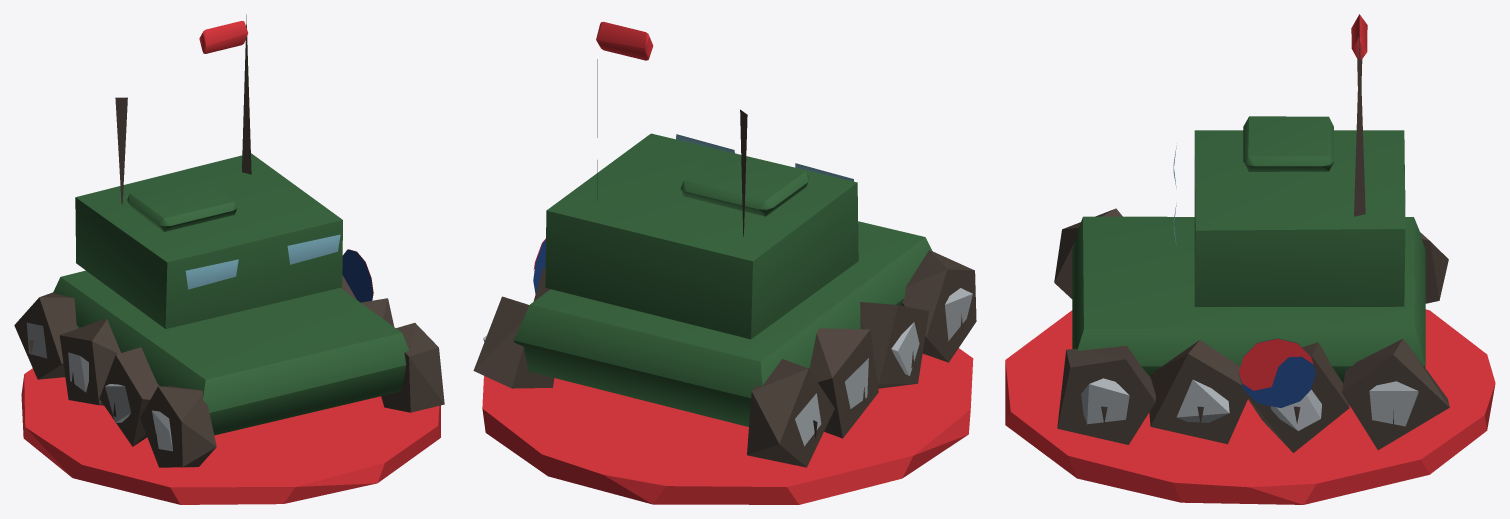
File: south_korea_commander_lod1.glb
3 views of the same model, side by side, from view 1: azimuth 30°, elevation 25°; view 2: azimuth 150°, elevation 25°; view 3: azimuth 270°, elevation 25° (orthographic). The views are drawn at different scales.
Parts seen in each view (by area): view 1: body_hull, base_pedestal; view 2: body_hull, base_pedestal; view 3: body_hull, base_pedestal.
Boxes of the visible parts, x1,y1,x2,y2 form: body_hull: (14, 14, 444, 467); base_pedestal: (21, 368, 440, 504); body_hull: (473, 21, 976, 467); base_pedestal: (482, 348, 973, 504); body_hull: (1054, 14, 1449, 452); base_pedestal: (1005, 309, 1495, 504).
Bounding box in the file's own units: 0.7751 × 0.7101 × 0.7751.
